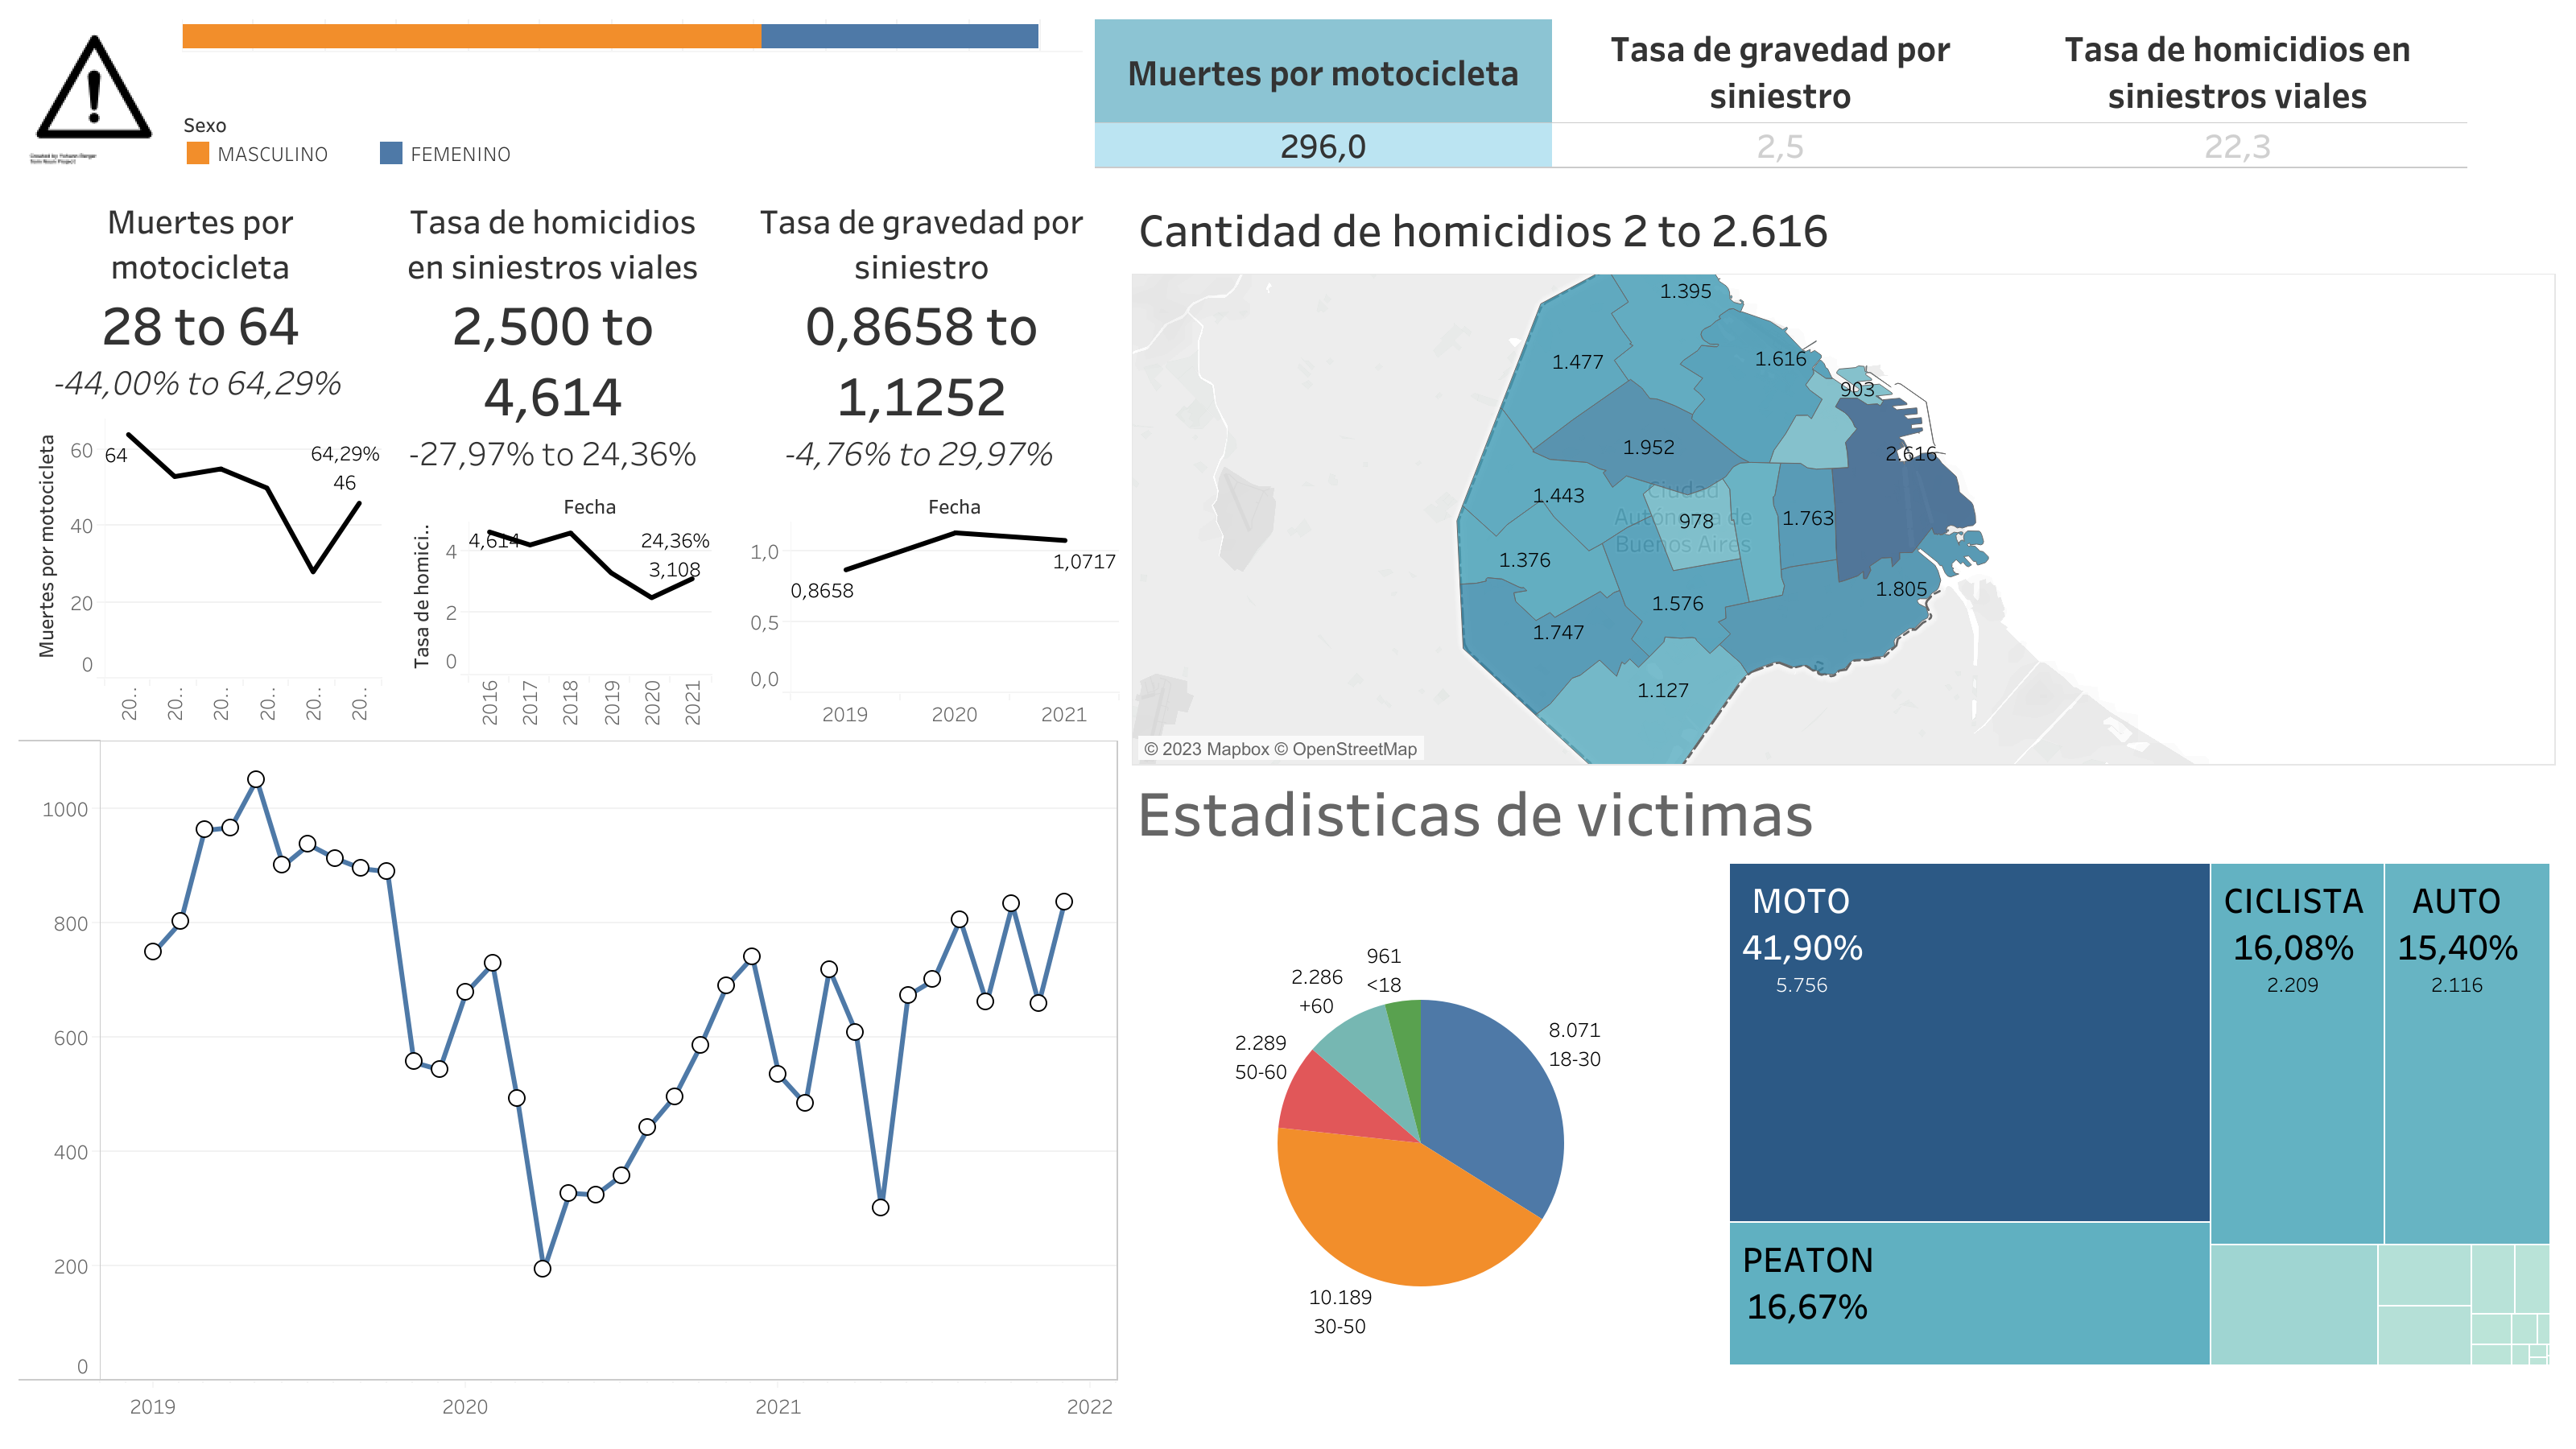

The dashboard page shown, as its layout file describes it:
{"tool":"tableau","page":{"name":"Dashboard 1","canvas":[1600,900],"ordinal":0},"visuals":[{"type":"image","param":"Image/noun-accident-3451768.png","box":[8,8,101,105]},{"type":"worksheet","title":"Genero de las victimas","mark":"Automatic","cols":["combined_data.csv_3EB4ECCB00CD44E8989694E954458CF7"],"box":[109,8,567,54.5]},{"type":"worksheet","title":"KPIS","mark":"Automatic","box":[676,8,916,105]},{"type":"legend","title":"Genero de las victimas","param":"[federated.0cpovpd0xnq9yr1h5prqn0unv8tg].[none:SEXO:nk]","box":[109,62.5,567,50.5]},{"type":"worksheet","title":"KPI Accidentes mortales en motocicleta","mark":"Automatic","rows":["Calculation_1361494531029221436"],"cols":["fecha"],"box":[8,113,233,342.6]},{"type":"worksheet","title":"Tasa siniestros viales","mark":"Line","rows":["Calculation_1361494530998767650"],"cols":["fecha"],"box":[241,113,205,342.6]},{"type":"worksheet","title":"KPI Tasa de gravedad por siniestro","mark":"Automatic","rows":["Calculation_876864921447501859"],"cols":["fecha"],"box":[446,113,253,342.6]},{"type":"worksheet","title":"Mapa siniestros viales","mark":"Automatic","box":[699,113,893,366.8]},{"type":"worksheet","title":"Grafico siniestros viales","mark":"Automatic","rows":["combined_data.csv_3EB4ECCB00CD44E8989694E954458CF7","combined_data.csv_3EB4ECCB00CD44E8989694E954458CF7"],"cols":["fecha"],"box":[8,455.6,691,436.4]},{"type":"text","box":[699,479.8,893,48.2]},{"type":"worksheet","title":"Rango etario de victimas","mark":"Pie","box":[699,528.1,367,363.9]},{"type":"worksheet","title":"Treemap victimas","mark":"Automatic","box":[1066,528.1,526,363.9]}]}

Visuals, with their boxes in screenshot pixels (x1, y1, x2, y2), scaled from the page's 1600x900 canvas onto the 2576x1449 screenshot:
image: [13, 13, 175, 182]
"Genero de las victimas" worksheet: [175, 13, 1088, 101]
"KPIS" worksheet: [1088, 13, 2563, 182]
"Genero de las victimas" legend: [175, 101, 1088, 182]
"KPI Accidentes mortales en motocicleta" worksheet: [13, 182, 388, 733]
"Tasa siniestros viales" worksheet (Line marks): [388, 182, 718, 733]
"KPI Tasa de gravedad por siniestro" worksheet: [718, 182, 1125, 733]
"Mapa siniestros viales" worksheet: [1125, 182, 2563, 773]
"Grafico siniestros viales" worksheet: [13, 733, 1125, 1436]
text: [1125, 773, 2563, 850]
"Rango etario de victimas" worksheet (Pie marks): [1125, 850, 1716, 1436]
"Treemap victimas" worksheet: [1716, 850, 2563, 1436]
